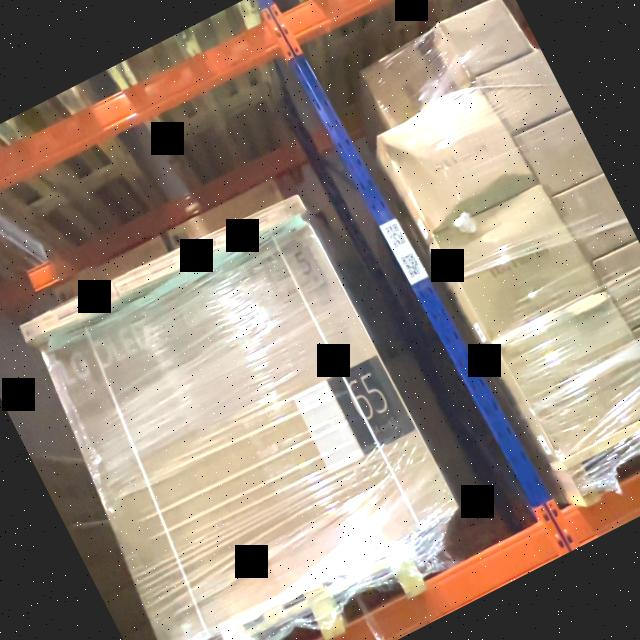box: (43, 218, 449, 632), (17, 280, 119, 344), (114, 234, 212, 299), (206, 190, 303, 252)
